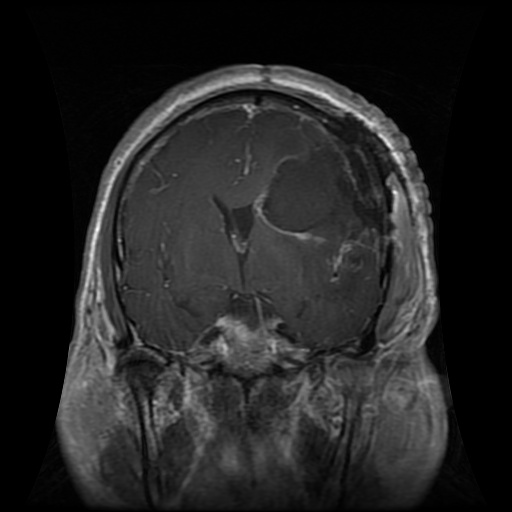glioma: (251, 120, 384, 293)
